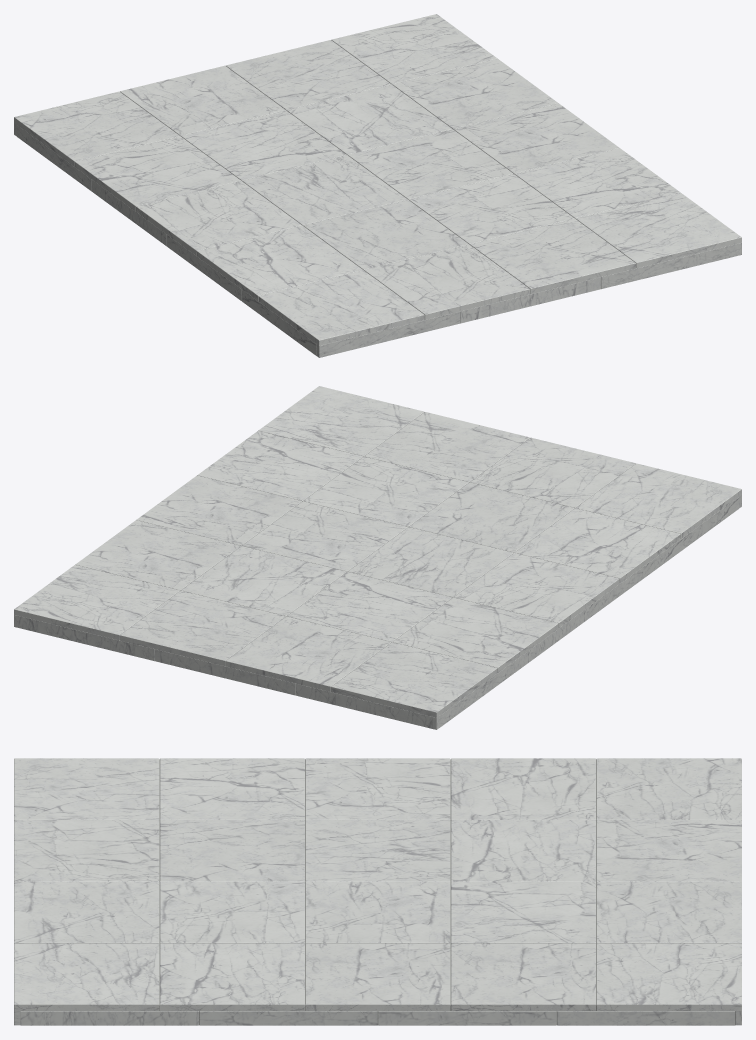
File: floor-marble-standard.glb
The picture shows the model from 3 angles, top to bottom: view 1: azimuth 30°, elevation 25°; view 2: azimuth 150°, elevation 25°; view 3: azimuth 270°, elevation 25°; orthographic projection. The views are drawn at different scales.
Visible parts, largest first — view 1: Stone_field_marble, Stone_edge_marble; view 2: Stone_field_marble, Stone_edge_marble; view 3: Stone_field_marble, Stone_edge_marble, Joint_and_bedding_marble.
Boxes of the visible parts, bbox=[...] form: Stone_field_marble: bbox=[14, 14, 741, 345]; Stone_edge_marble: bbox=[14, 123, 741, 357]; Stone_field_marble: bbox=[14, 386, 741, 717]; Stone_edge_marble: bbox=[14, 495, 741, 729]; Stone_field_marble: bbox=[14, 758, 741, 1010]; Stone_edge_marble: bbox=[14, 1011, 741, 1025]; Joint_and_bedding_marble: bbox=[20, 759, 735, 1024].
Bounding box in the file's own units: 2.4 × 0.096 × 3.
Materials: 3 (2 with a texture image).
